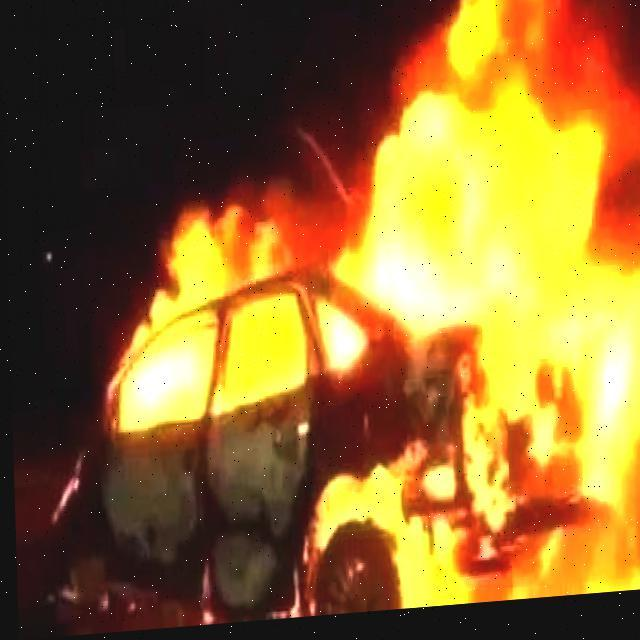Fire: (86, 0, 639, 625)
